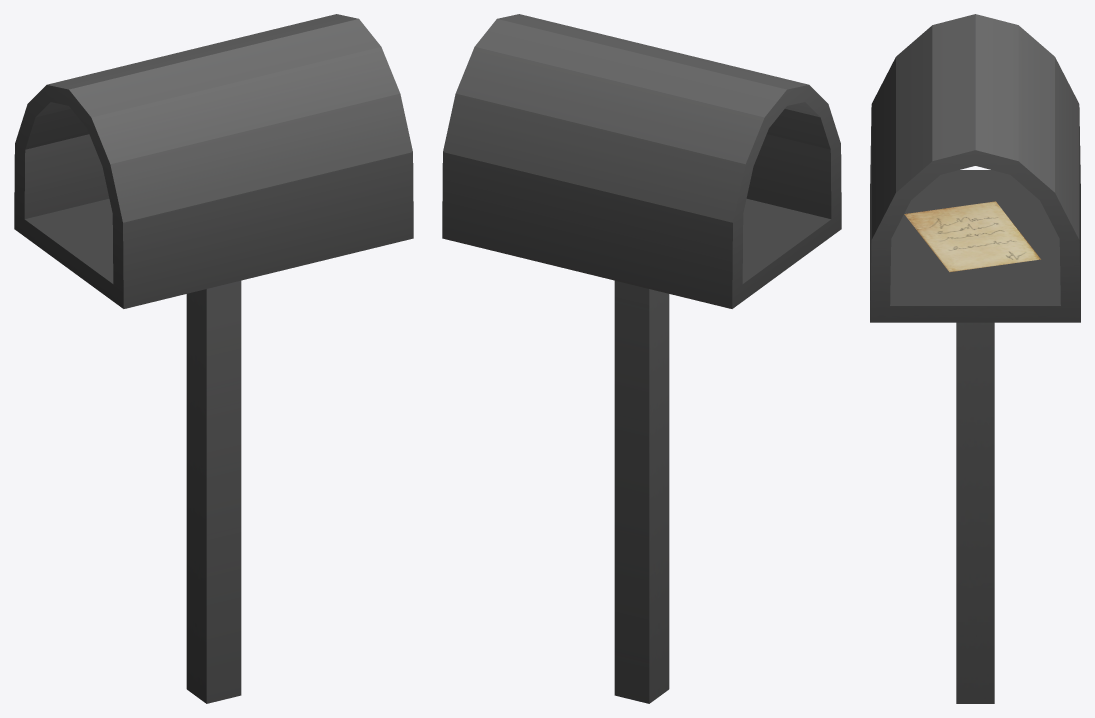
Rendered from mailbox.glb.
3 views of the same model, side by side, from view 1: azimuth 30°, elevation 25°; view 2: azimuth 150°, elevation 25°; view 3: azimuth 270°, elevation 25° (orthographic). The views are drawn at different scales.
Parts seen in each view (by area): view 1: mailbox; view 2: mailbox; view 3: mailbox, letter.
Part boxes in pixels (left/top/right/bottom): mailbox: left=14, top=14, right=413, bottom=703; mailbox: left=442, top=14, right=841, bottom=703; mailbox: left=870, top=14, right=1080, bottom=703; letter: left=904, top=201, right=1040, bottom=272.
Bounding box in the file's own units: 2 × 4.2 × 1.31.
Materials: 2 (2 with a texture image).
